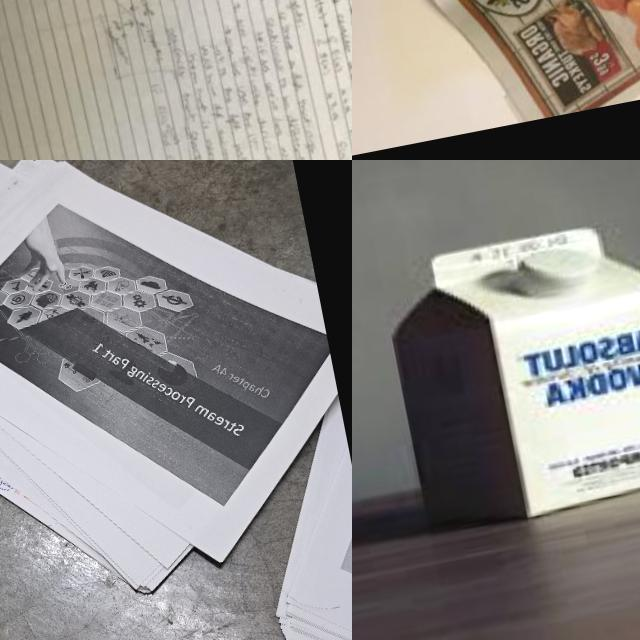caixinha: (377, 214, 640, 538)
papel: (0, 160, 352, 640), (0, 0, 352, 160), (352, 0, 640, 148), (233, 372, 352, 640)
tampa plástica: (516, 239, 603, 298)
